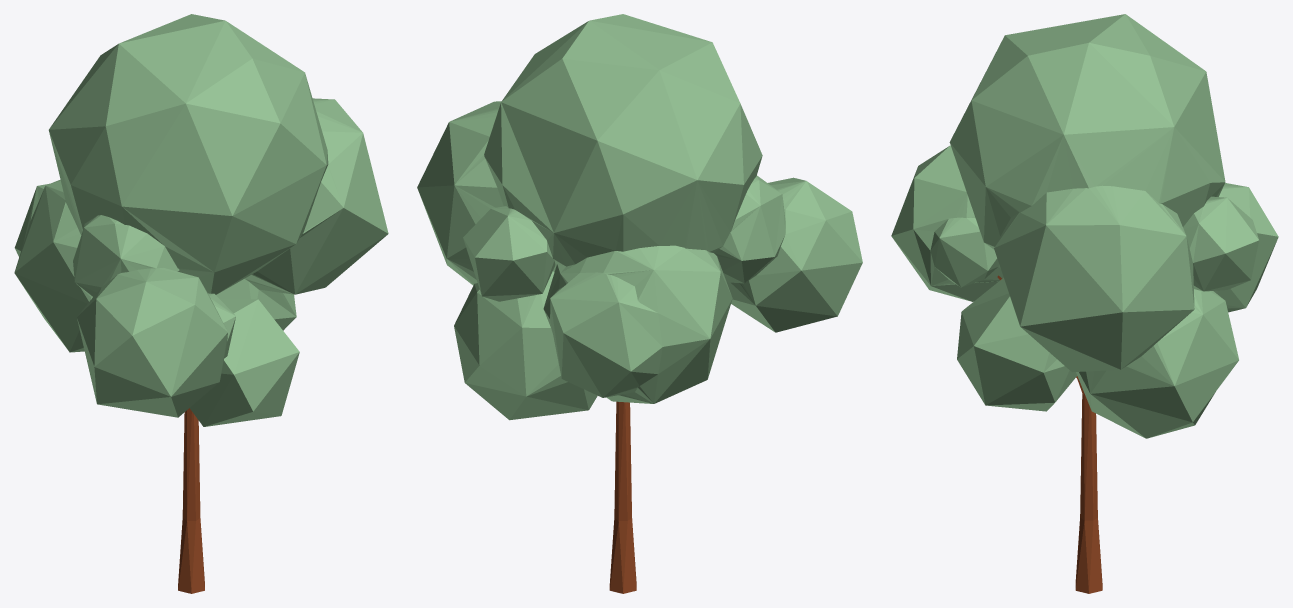
The model's file is bubble_tree_1.fbx.
3 views of the same model, side by side, from view 1: azimuth 30°, elevation 25°; view 2: azimuth 150°, elevation 25°; view 3: azimuth 270°, elevation 25° (orthographic).
Visible parts, largest first — view 1: _G-Object.139 (Loose Mesh), G-Object.142; view 2: _G-Object.139 (Loose Mesh), G-Object.142; view 3: _G-Object.139 (Loose Mesh), G-Object.142.
Part boxes in pixels (x1,y1,x2,y2): _G-Object.139 (Loose Mesh): [14, 14, 388, 426]; G-Object.142: [178, 408, 204, 593]; _G-Object.139 (Loose Mesh): [417, 14, 862, 420]; G-Object.142: [609, 401, 636, 593]; _G-Object.139 (Loose Mesh): [891, 14, 1278, 438]; G-Object.142: [1075, 393, 1102, 593].
Size of the model in its own units: 1074 by 1602 by 1002.
